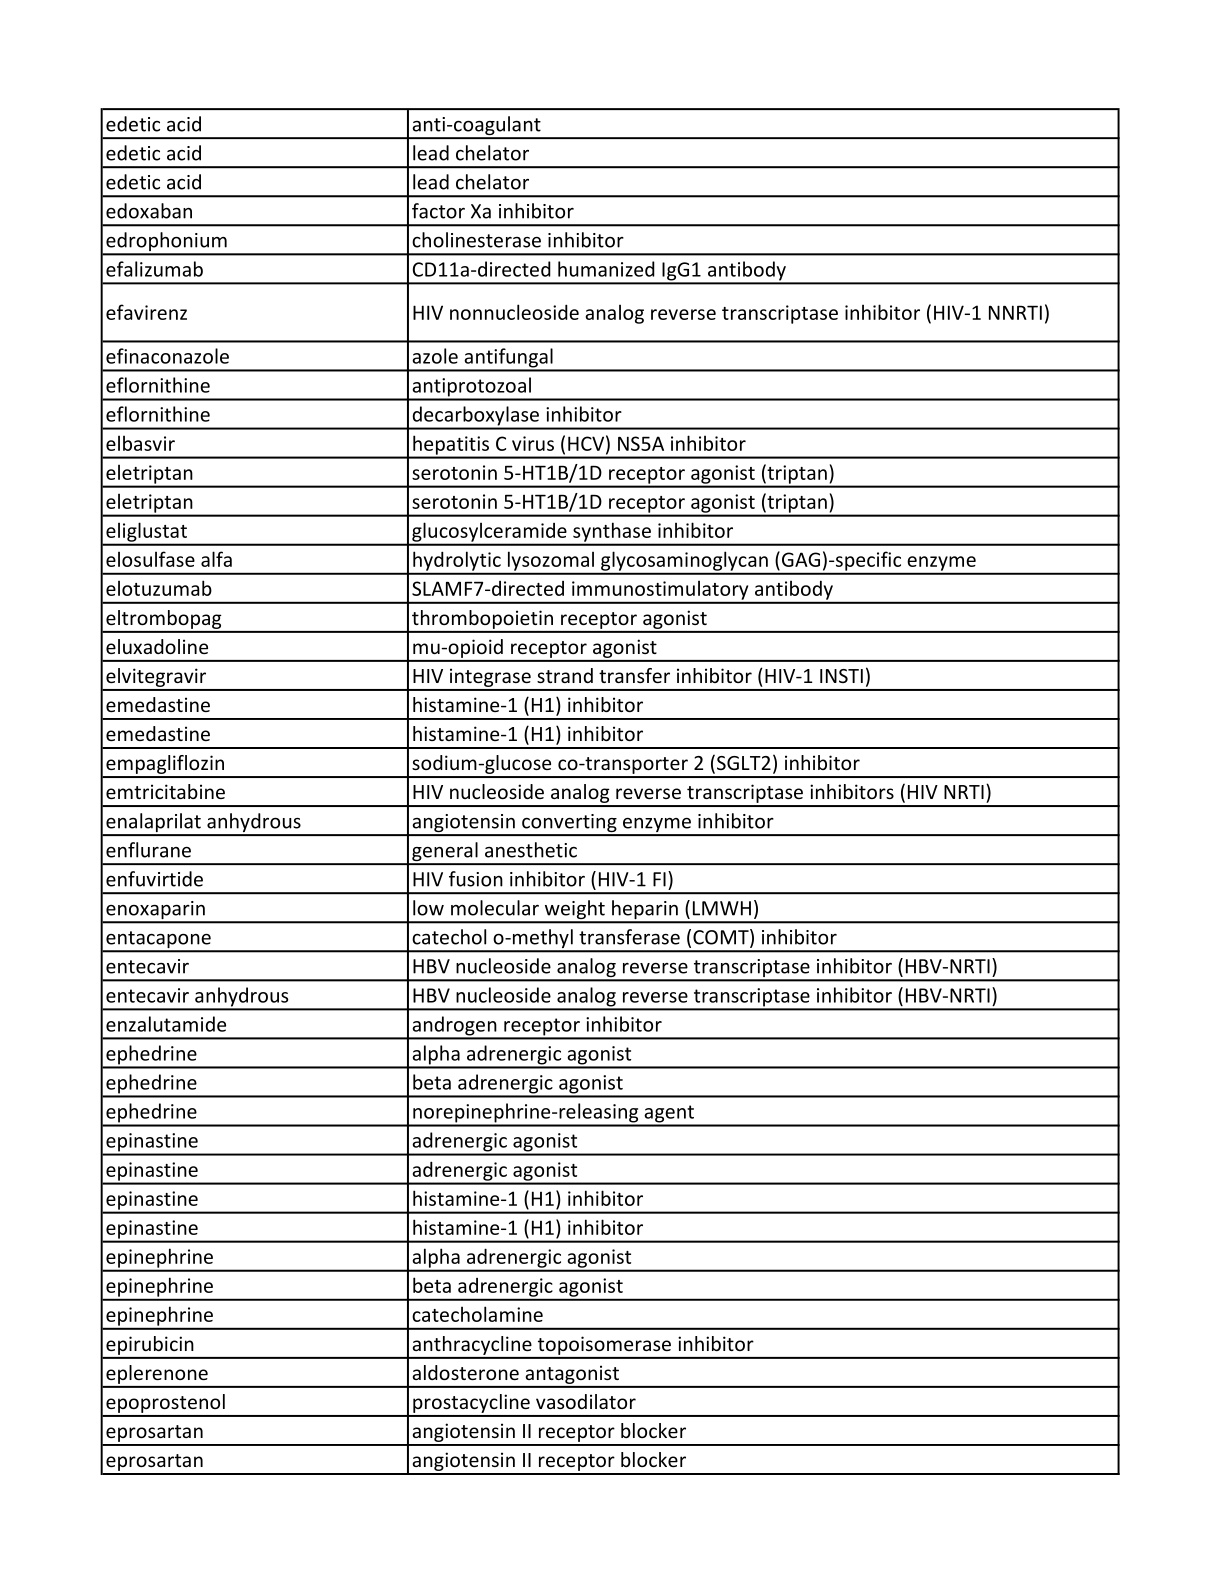full_lined: (100, 105, 1120, 1476)
